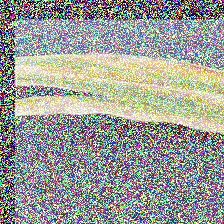Leaf_Blast: (17, 51, 224, 120)
